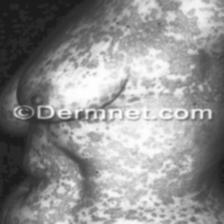Toxin: (94, 125, 188, 183)
